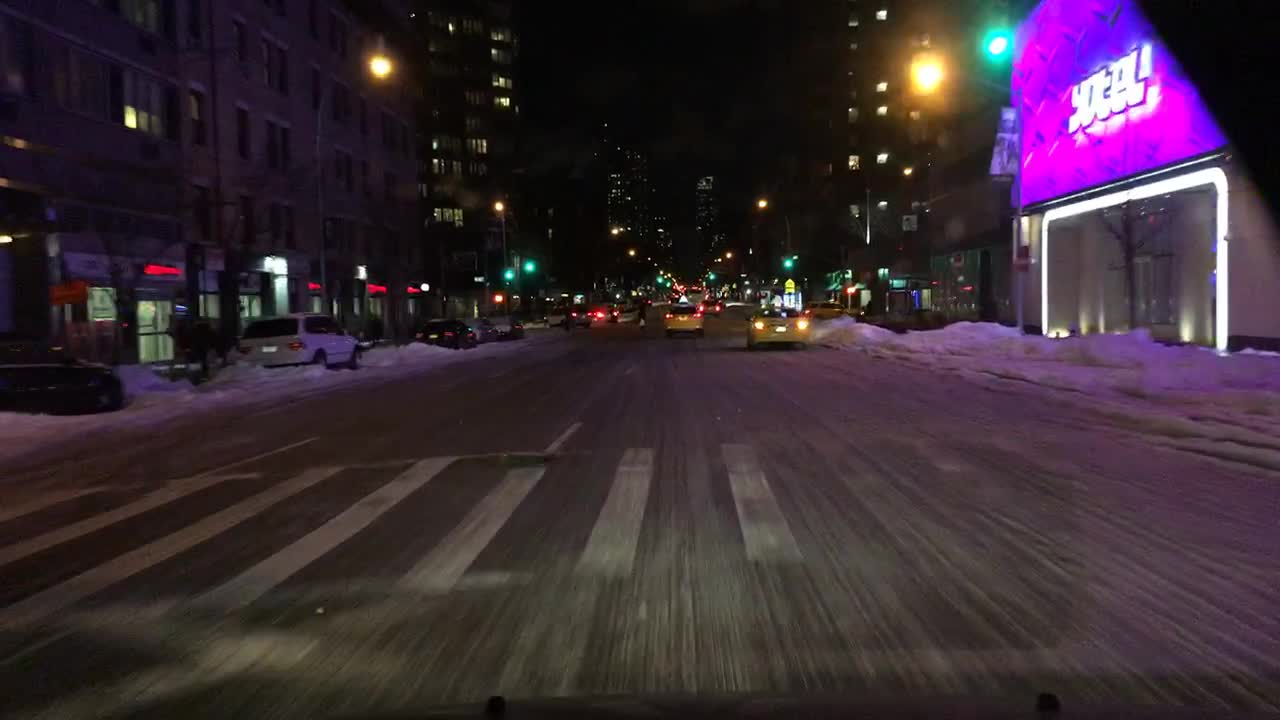car: (245, 313, 363, 375), (745, 305, 814, 351), (412, 317, 481, 348), (663, 299, 704, 334)
person: (634, 294, 654, 337)
